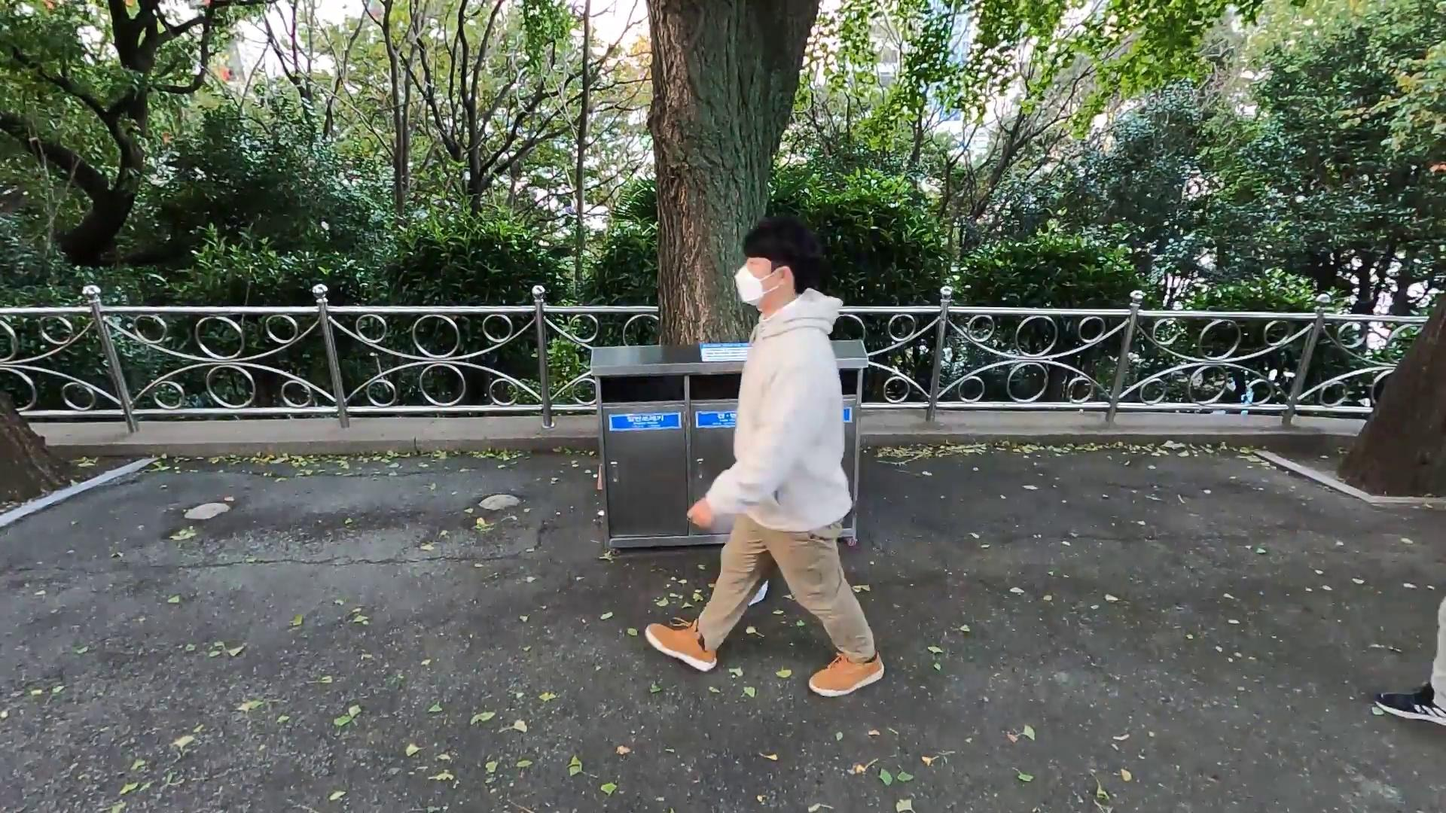person: (648, 217, 885, 704)
